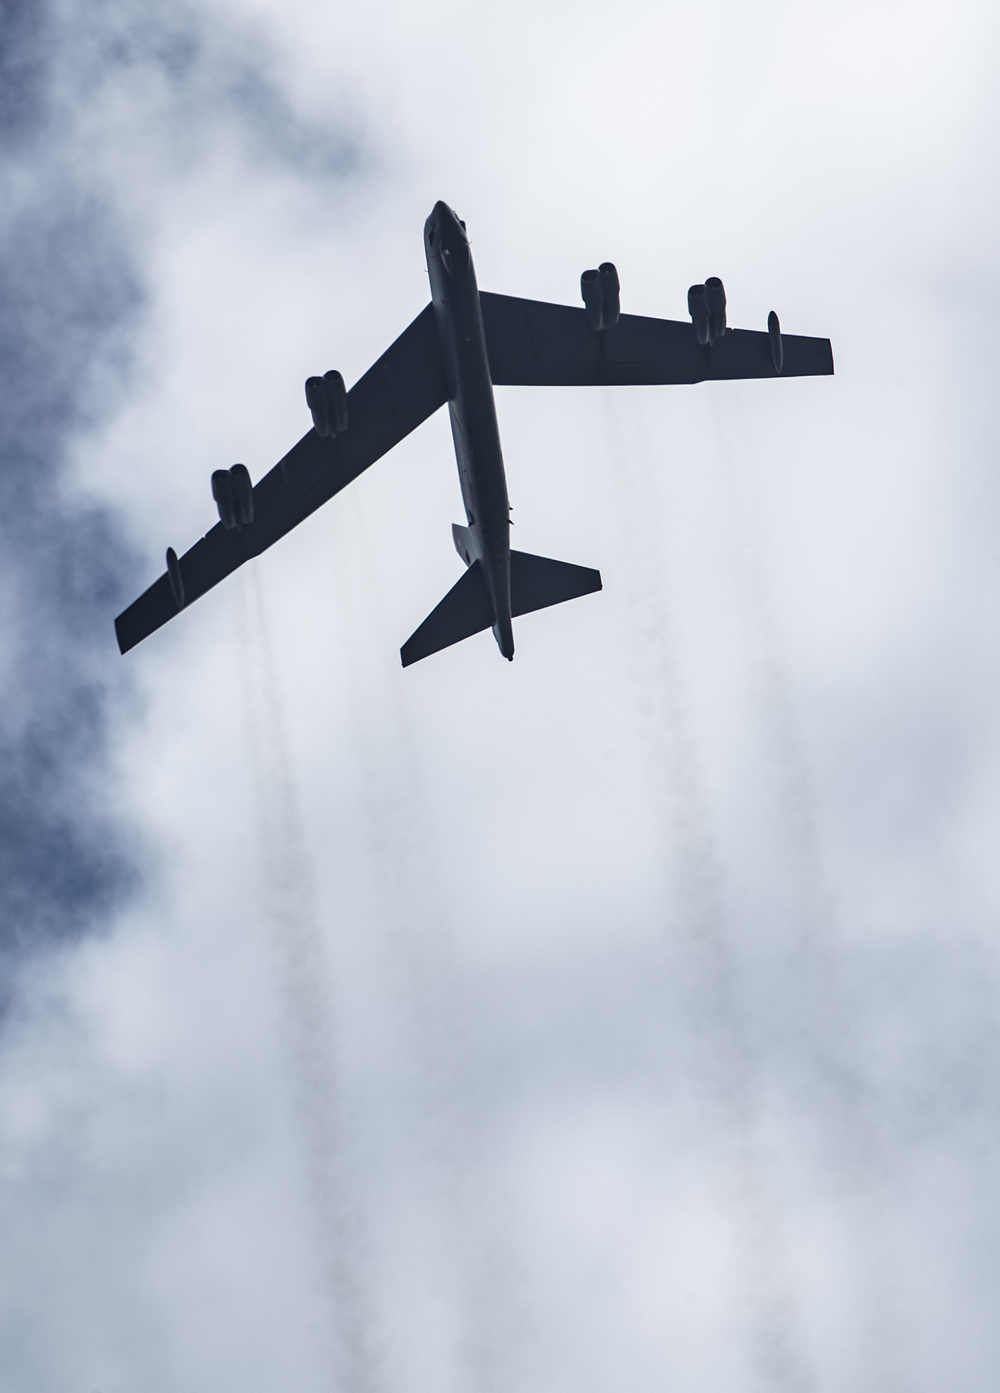B52: (114, 198, 835, 669)
